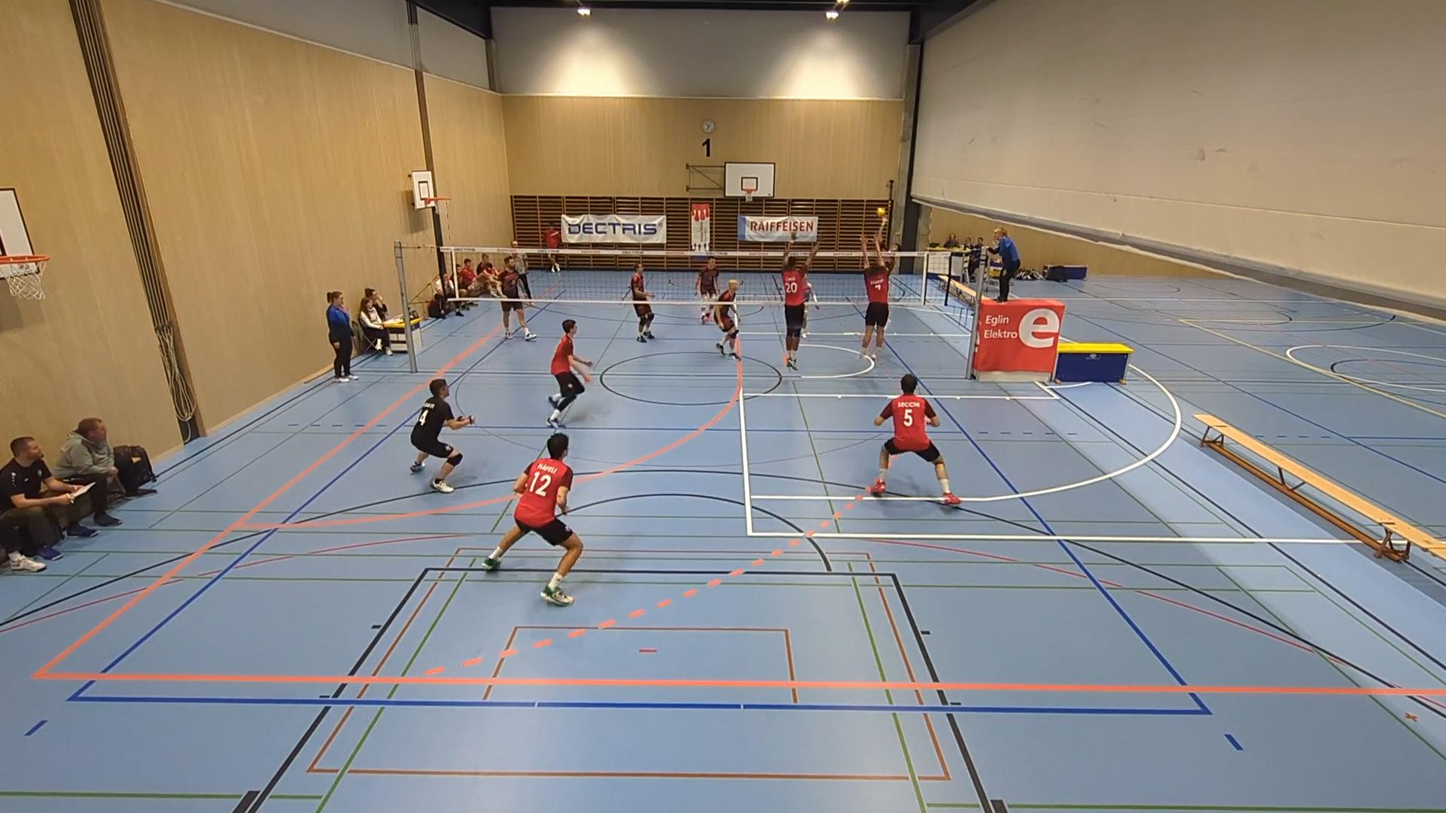Attack: (875, 216, 900, 281)
Block: (777, 238, 826, 374), (855, 238, 900, 365)
Player: (483, 433, 583, 605), (869, 373, 960, 504), (410, 378, 474, 492), (548, 318, 591, 428), (499, 257, 536, 340), (713, 279, 739, 359), (629, 261, 654, 342), (695, 257, 718, 322), (801, 277, 818, 338)
ball: (873, 207, 886, 216)
